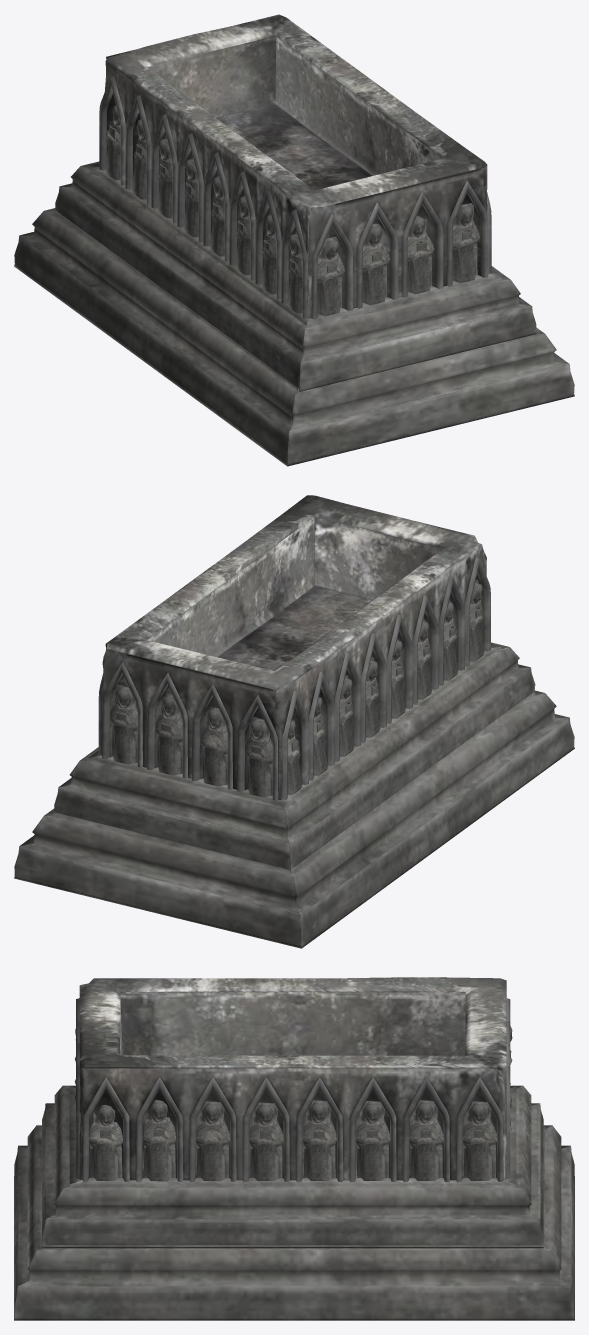
Rendered from AEG007_707_nosnow-transformed.glb.
3 renders of one model, top to bottom at view 1: azimuth 30°, elevation 25°; view 2: azimuth 150°, elevation 25°; view 3: azimuth 270°, elevation 25°, orthographic. The views are drawn at different scales.
Visible parts, largest first — view 1: default; view 2: default; view 3: default.
Boxes of the visible parts, <box> form: default: <box>14,14,574,466</box>; default: <box>14,495,574,948</box>; default: <box>14,977,574,1320</box>.
Bounding box in the file's own units: 2.87 × 2.13 × 4.73.
1 material, 1 textured.
